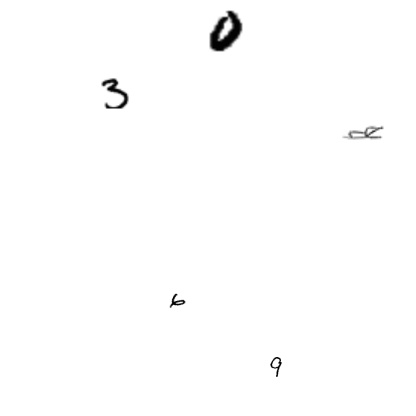0: (196, 5, 252, 61)
3: (94, 71, 136, 113)
6: (165, 290, 187, 312)
9: (262, 351, 290, 379)
Sandal: (342, 111, 384, 153)
